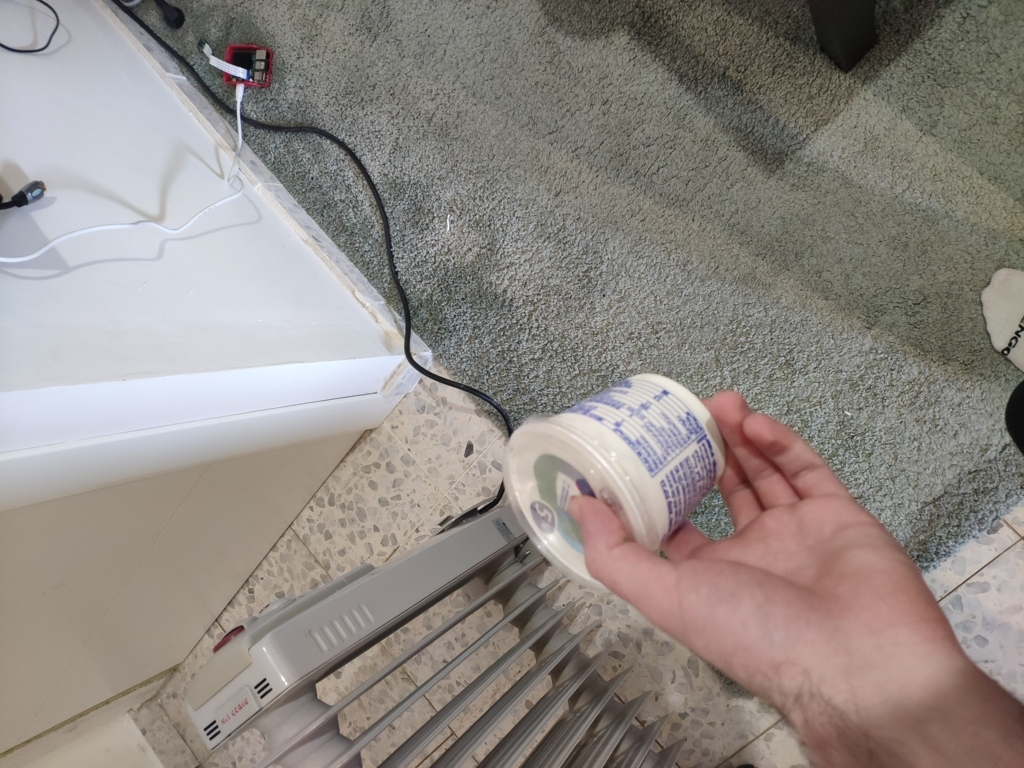Cotage: (510, 372, 737, 572)
